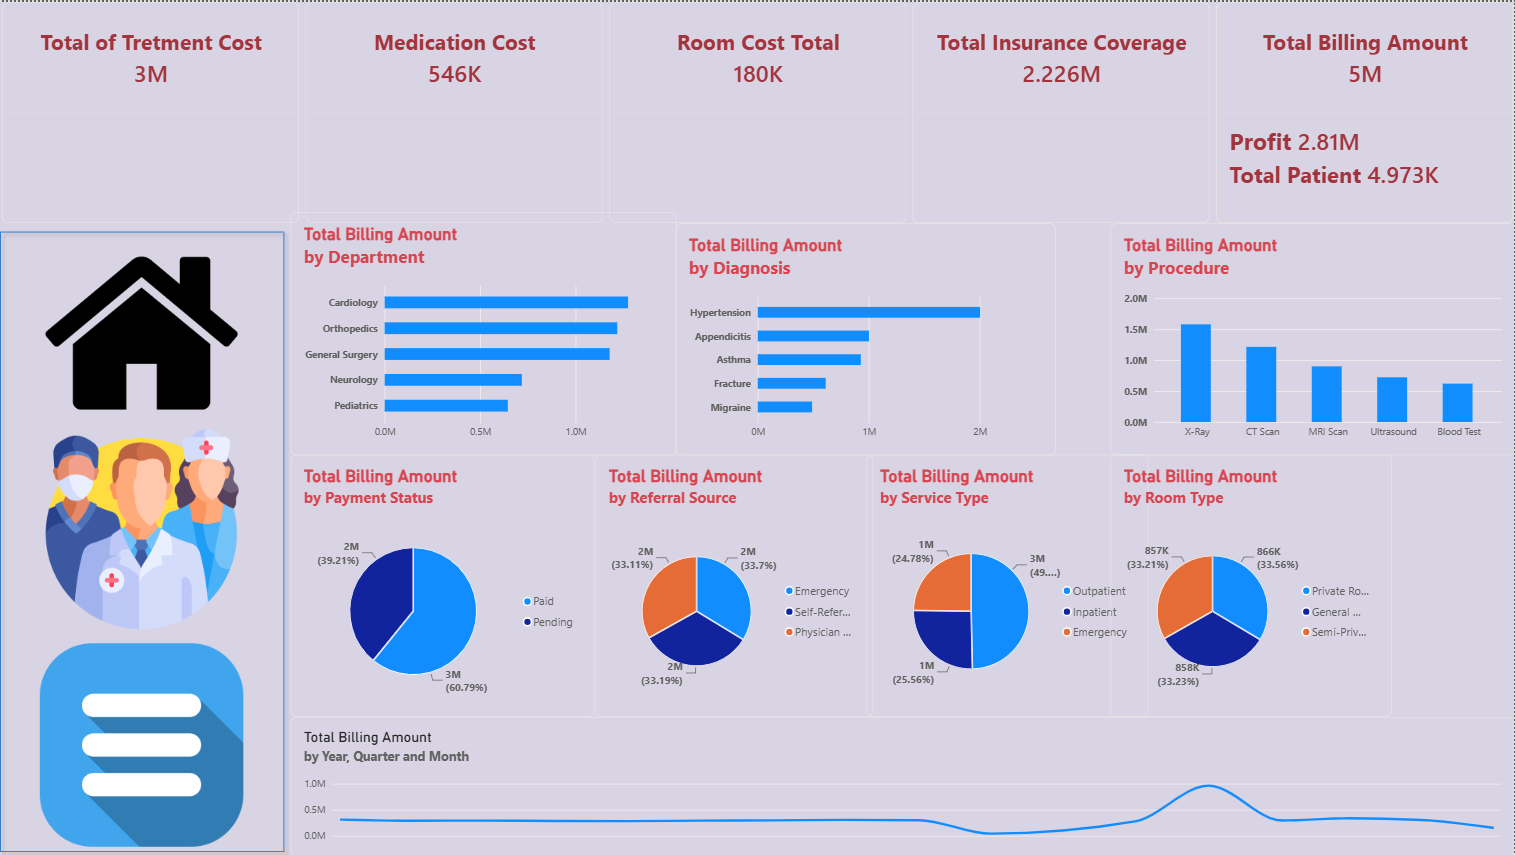

The dashboard page shown, as its layout file describes it:
{"tool":"powerbi","page":{"name":"Main","canvas":[1920,1080],"ordinal":0},"visuals":[{"type":"shape","box":[0,280.4,376.6,800.7],"z":0},{"type":"image","box":[10.8,296.6,352.4,242.7],"z":1000},{"type":"image","box":[10.8,539.3,354.2,251.7],"z":2000},{"type":"image","box":[10.8,809,352.4,257.1],"z":3000},{"type":"cardVisual","fields":{"Data":["Table Measure.Total of Tretment Cost","Table Measure.Medication Cost","Table Measure.Room Cost Total","Table Measure.Total Insurance Coverage","Table Measure.Total Billing Amount"]},"box":[10.7,0,1908.8,279.2],"z":4000},{"type":"barChart","fields":{"Category":["departments.Department"],"Y":["Table Measure.Total Billing Amount"]},"box":[375.7,264.3,487.2,307.4],"z":5000},{"type":"barChart","fields":{"Y":["Table Measure.Total Billing Amount"],"Category":["diagnoses.Diagnosis"]},"box":[861.1,278.7,480,293],"z":6000},{"type":"columnChart","fields":{"Category":["procedures.Procedure"],"Y":["Table Measure.Total Billing Amount"]},"box":[1409.4,278.7,510.6,293],"z":7000},{"type":"pieChart","fields":{"Y":["Table Measure.Total Billing Amount"],"Category":["visits.Payment Status"]},"box":[375.7,571.7,383.1,331.1],"z":8000},{"type":"pieChart","fields":{"Y":["Table Measure.Total Billing Amount"],"Category":["visits.Referral Source"]},"box":[760.4,571.7,350.6,331.1],"z":9000},{"type":"pieChart","fields":{"Y":["Table Measure.Total Billing Amount"],"Category":["visits.Service Type"]},"box":[1102,571.7,354.9,331.1],"z":10000},{"type":"pieChart","fields":{"Y":["Table Measure.Total Billing Amount"],"Category":["visits.Room Type"]},"box":[1409.4,571.7,354.9,331.1],"z":11000},{"type":"lineChart","fields":{"Y":["Table Measure.Total Billing Amount"],"Category":["visits.Date of Visit.Variation.Date Hierarchy.Year","visits.Date of Visit.Variation.Date Hierarchy.Quarter","visits.Date of Visit.Variation.Date Hierarchy.Month"]},"box":[375.7,902.5,1544.3,176.2],"z":12000}]}

Visuals, with their boxes in screenshot pixels (x1, y1, x2, y2), scaled from the page's 1920x1080 canvas onto the 1515x855 screenshot:
shape: x1=0, y1=222, x2=297, y2=854
image: x1=9, y1=235, x2=287, y2=427
image: x1=9, y1=427, x2=288, y2=626
image: x1=9, y1=640, x2=287, y2=844
cardVisual - Table Measure.Total of Tretment Cost x Table Measure.Medication Cost: x1=8, y1=0, x2=1514, y2=221
barChart - departments.Department x Table Measure.Total Billing Amount: x1=296, y1=209, x2=681, y2=453
barChart - Table Measure.Total Billing Amount x diagnoses.Diagnosis: x1=679, y1=221, x2=1058, y2=453
columnChart - procedures.Procedure x Table Measure.Total Billing Amount: x1=1112, y1=221, x2=1514, y2=453
pieChart - Table Measure.Total Billing Amount x visits.Payment Status: x1=296, y1=453, x2=599, y2=715
pieChart - Table Measure.Total Billing Amount x visits.Referral Source: x1=600, y1=453, x2=877, y2=715
pieChart - Table Measure.Total Billing Amount x visits.Service Type: x1=870, y1=453, x2=1150, y2=715
pieChart - Table Measure.Total Billing Amount x visits.Room Type: x1=1112, y1=453, x2=1392, y2=715
lineChart - Table Measure.Total Billing Amount x visits.Date of Visit.Variation.Date Hierarchy.Year: x1=296, y1=714, x2=1514, y2=854
